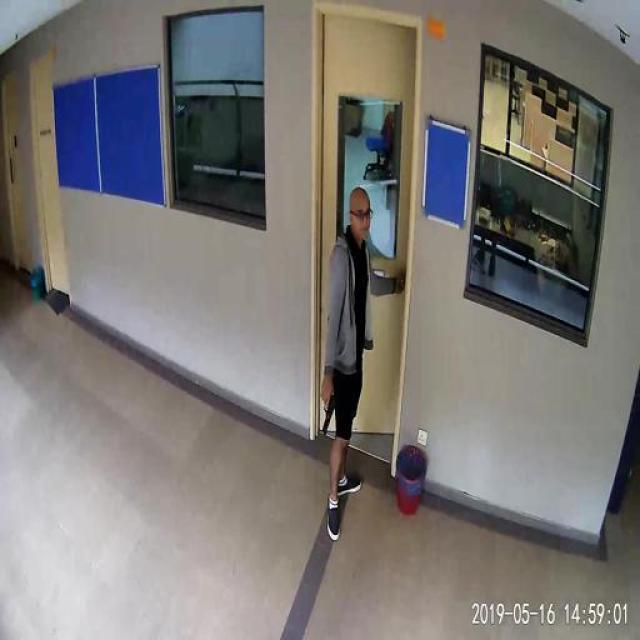Gun: (308, 372, 349, 436)
